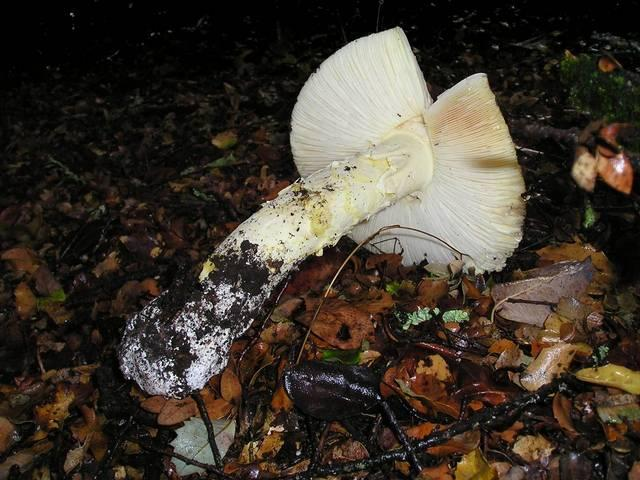edible_mushroom: (116, 25, 527, 399)
